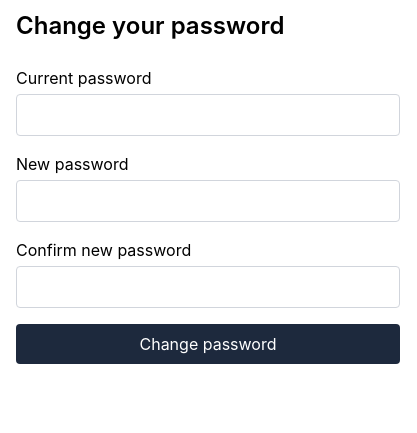
Test: ChangePasswordPage › requires the new password to differ from the current one
Type "OpsGraph-Test-2026!" into the password field labelled "Current password" at (208, 115), box [16, 94, 400, 136]
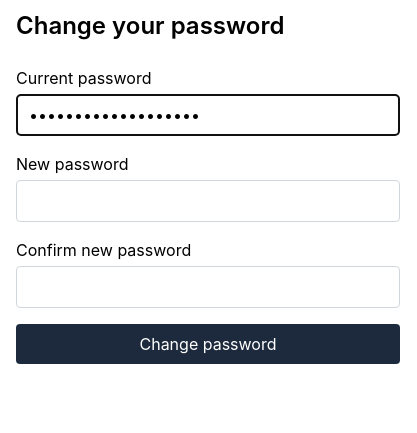
Type "OpsGraph-Test-2026!" into the password field labelled "New password" at (208, 201), box [16, 180, 400, 222]
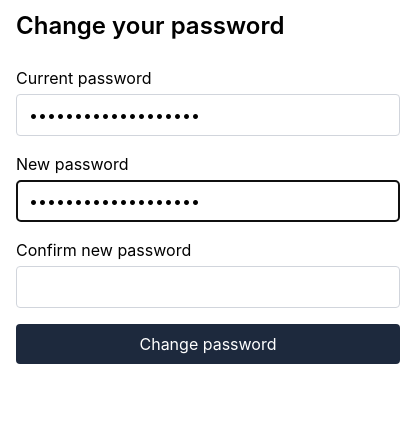
Type "OpsGraph-Test-2026!" into the password field labelled "Confirm new password" at (208, 287), box [16, 266, 400, 308]
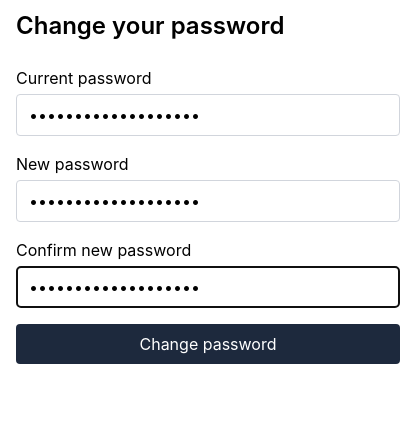
Click the button "Change password" at (208, 344), box [16, 324, 400, 364]
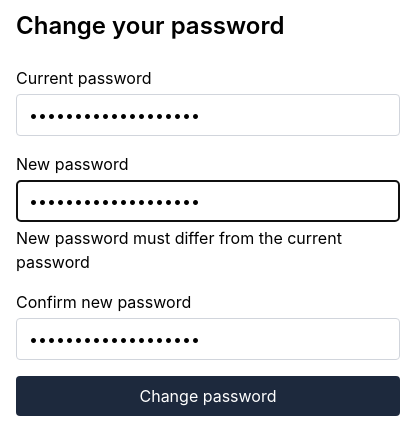
Check: the text "New password must differ from the current password" is shown, box [16, 228, 342, 272]
